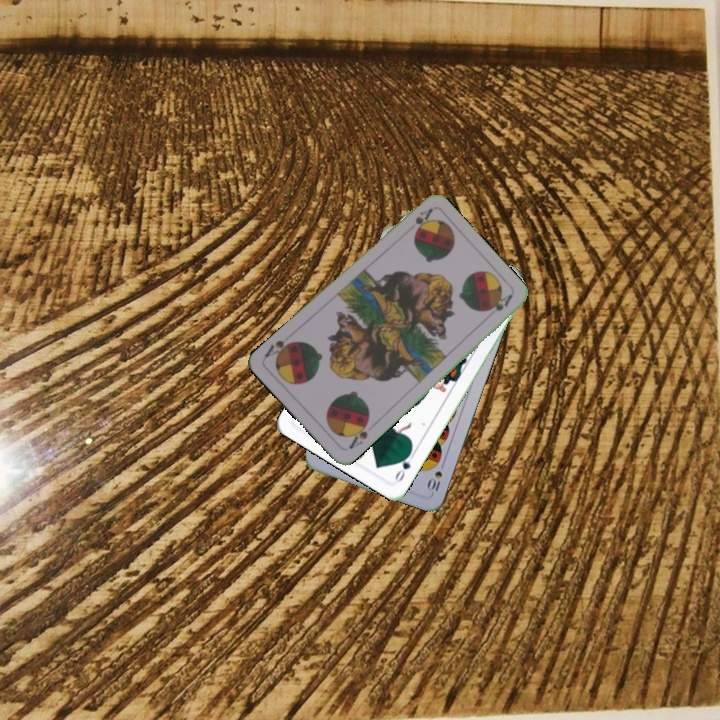GO: (391, 447, 417, 485)
S10: (423, 466, 445, 496)
SA: (345, 416, 372, 452), (411, 205, 435, 234)
